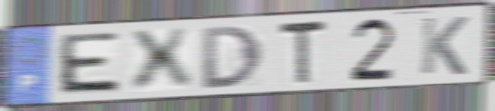2: (348, 16, 400, 84)
D: (200, 23, 266, 91)
E: (54, 30, 124, 97)
K: (417, 14, 471, 77)
T: (278, 17, 330, 88)
X: (125, 26, 197, 95)
